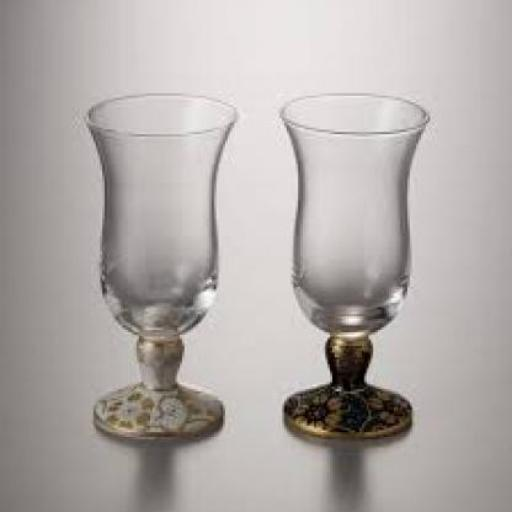glass: (82, 91, 234, 442), (280, 94, 428, 440)
